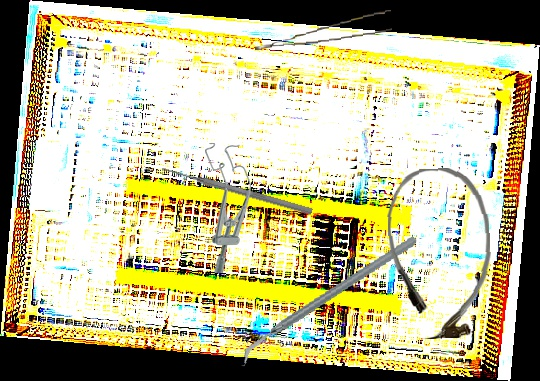Cannula: (385, 165, 495, 342)
Chopper: (223, 233, 434, 368)
Pusher: (160, 163, 314, 217)
Speculum: (205, 143, 251, 273)
Tissue Forceps: (253, 10, 393, 50)
